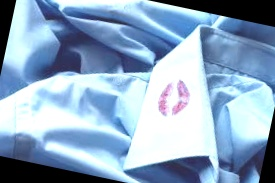lipstick: (151, 72, 196, 130)
